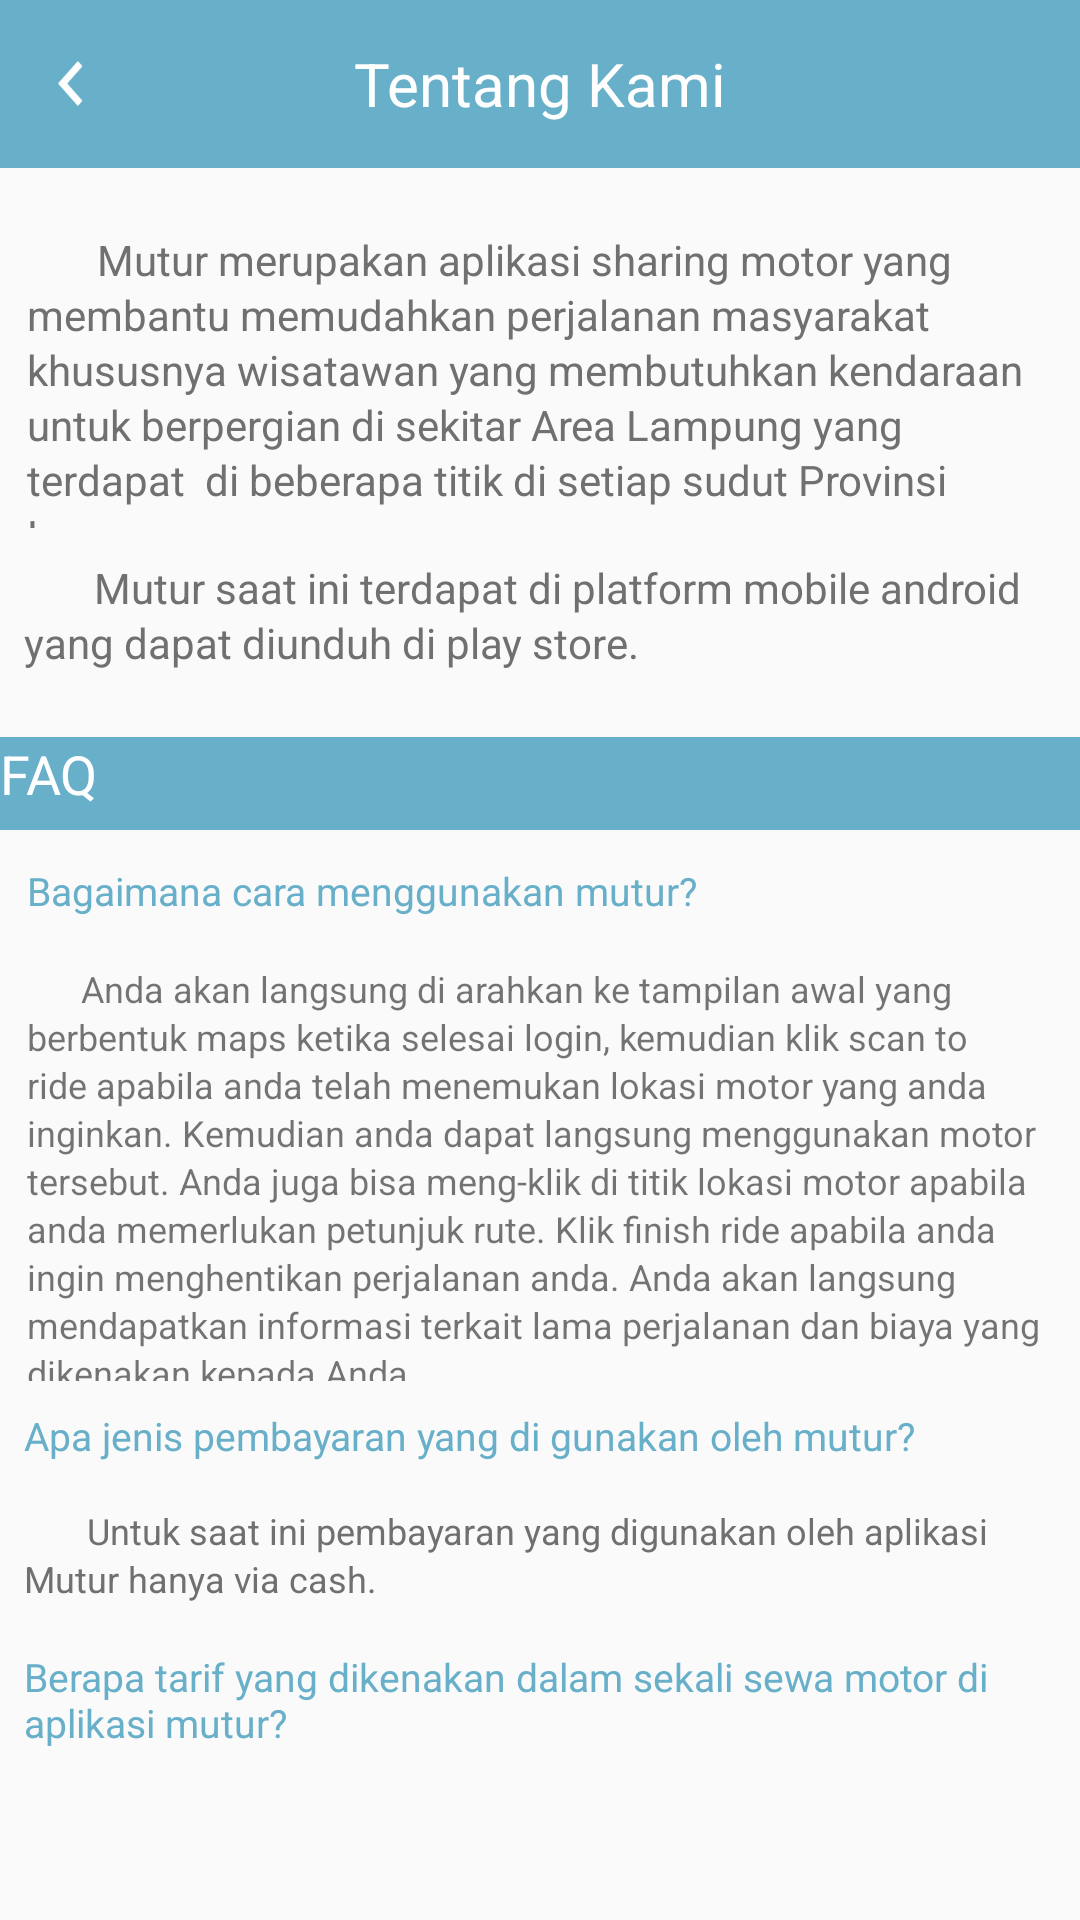

Where to tap for icons on this 1080x1920 app screen, as (x,y):
left: (70,83)
